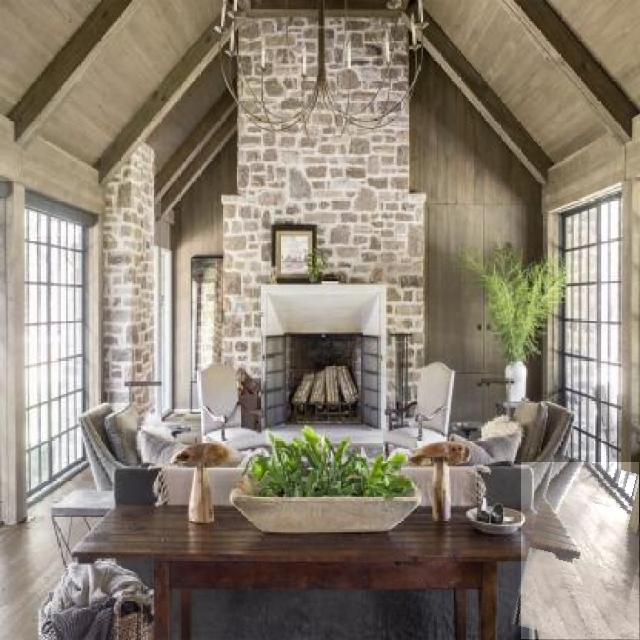floor: (521, 463, 640, 640)
